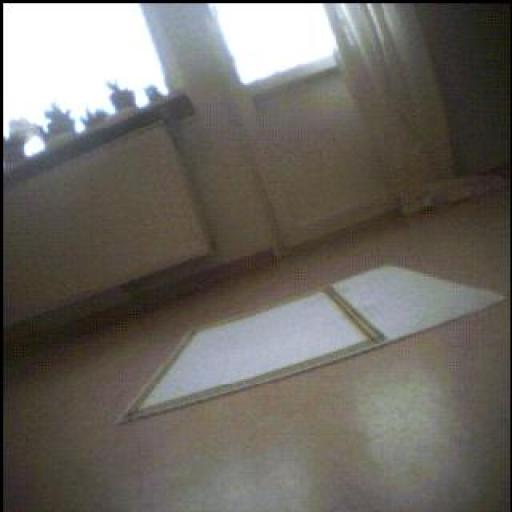Pad: (124, 267, 505, 422)
